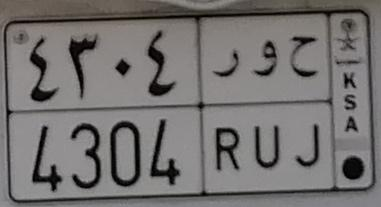0: (108, 56, 143, 188)
3: (67, 33, 104, 189)
4: (145, 29, 184, 186), (28, 36, 64, 193)
J: (289, 35, 322, 168)
R: (212, 48, 243, 171)
U: (251, 40, 284, 170)
